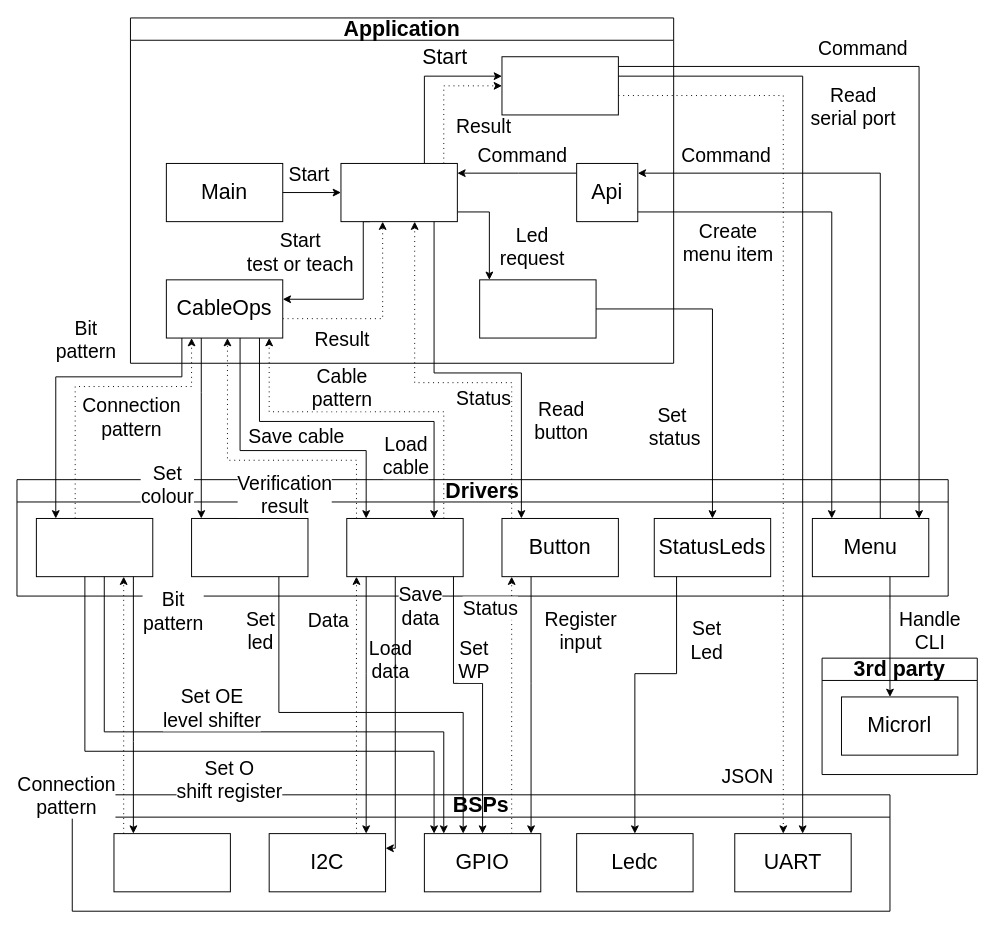
Image size: 994x928. Some labels were removed from this diagram. Here are the shapes that lost their labels. From the top down, the centre of each, then its label:
the point at 559,85: Console
the point at 398,192: App
the point at 537,308: StatusApp
the point at 94,547: Shifter
the point at 249,547: DebugLed
the point at 404,547: I2CEeprom
the point at 171,862: SPI
